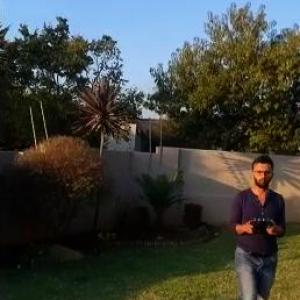follow: (220, 139, 285, 299)
